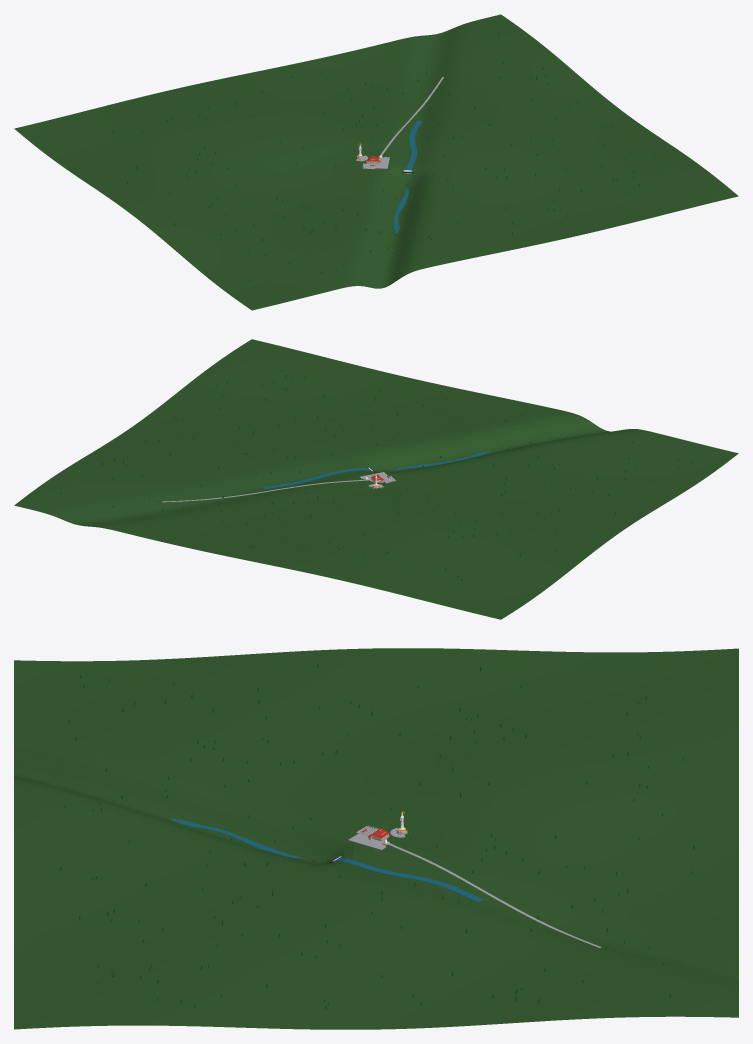
Rendered from ring3_w5_chua_linh_an_71m_avalokitesvara_and_thac_voi.glb.
The picture shows the model from 3 angles, top to bottom: view 1: azimuth 30°, elevation 25°; view 2: azimuth 150°, elevation 25°; view 3: azimuth 270°, elevation 25°; orthographic projection. The views are drawn at different scales.
Visible parts, largest first — view 1: LinhAn_Hillside_And_ThacVoi_Gorge_Terrain, LinhAn_OldGrowth_Pine_Canopies, CamLy_River_And_ThacVoi_Plunge_Pool, Courtyard_Granite_Plazas_DragonStairs_And_Paths; view 2: LinhAn_Hillside_And_ThacVoi_Gorge_Terrain, LinhAn_OldGrowth_Pine_Canopies, CamLy_River_And_ThacVoi_Plunge_Pool, Courtyard_Granite_Plazas_DragonStairs_And_Paths; view 3: LinhAn_Hillside_And_ThacVoi_Gorge_Terrain, LinhAn_OldGrowth_Pine_Canopies, CamLy_River_And_ThacVoi_Plunge_Pool, Courtyard_Granite_Plazas_DragonStairs_And_Paths.
Boxes of the visible parts, left/top/right/bottom form: LinhAn_Hillside_And_ThacVoi_Gorge_Terrain: left=14, top=14, right=738, bottom=310; LinhAn_OldGrowth_Pine_Canopies: left=112, top=33, right=659, bottom=288; CamLy_River_And_ThacVoi_Plunge_Pool: left=393, top=120, right=422, bottom=233; Courtyard_Granite_Plazas_DragonStairs_And_Paths: left=356, top=77, right=443, bottom=169; LinhAn_Hillside_And_ThacVoi_Gorge_Terrain: left=14, top=339, right=738, bottom=619; LinhAn_OldGrowth_Pine_Canopies: left=60, top=370, right=693, bottom=580; CamLy_River_And_ThacVoi_Plunge_Pool: left=263, top=451, right=491, bottom=489; Courtyard_Granite_Plazas_DragonStairs_And_Paths: left=162, top=472, right=395, bottom=502; LinhAn_Hillside_And_ThacVoi_Gorge_Terrain: left=14, top=648, right=738, bottom=1029; LinhAn_OldGrowth_Pine_Canopies: left=60, top=664, right=695, bottom=1008; CamLy_River_And_ThacVoi_Plunge_Pool: left=171, top=818, right=483, bottom=901; Courtyard_Granite_Plazas_DragonStairs_And_Paths: left=348, top=826, right=601, bottom=947.
Bounding box in the file's own units: 2600 × 130 × 2200.
